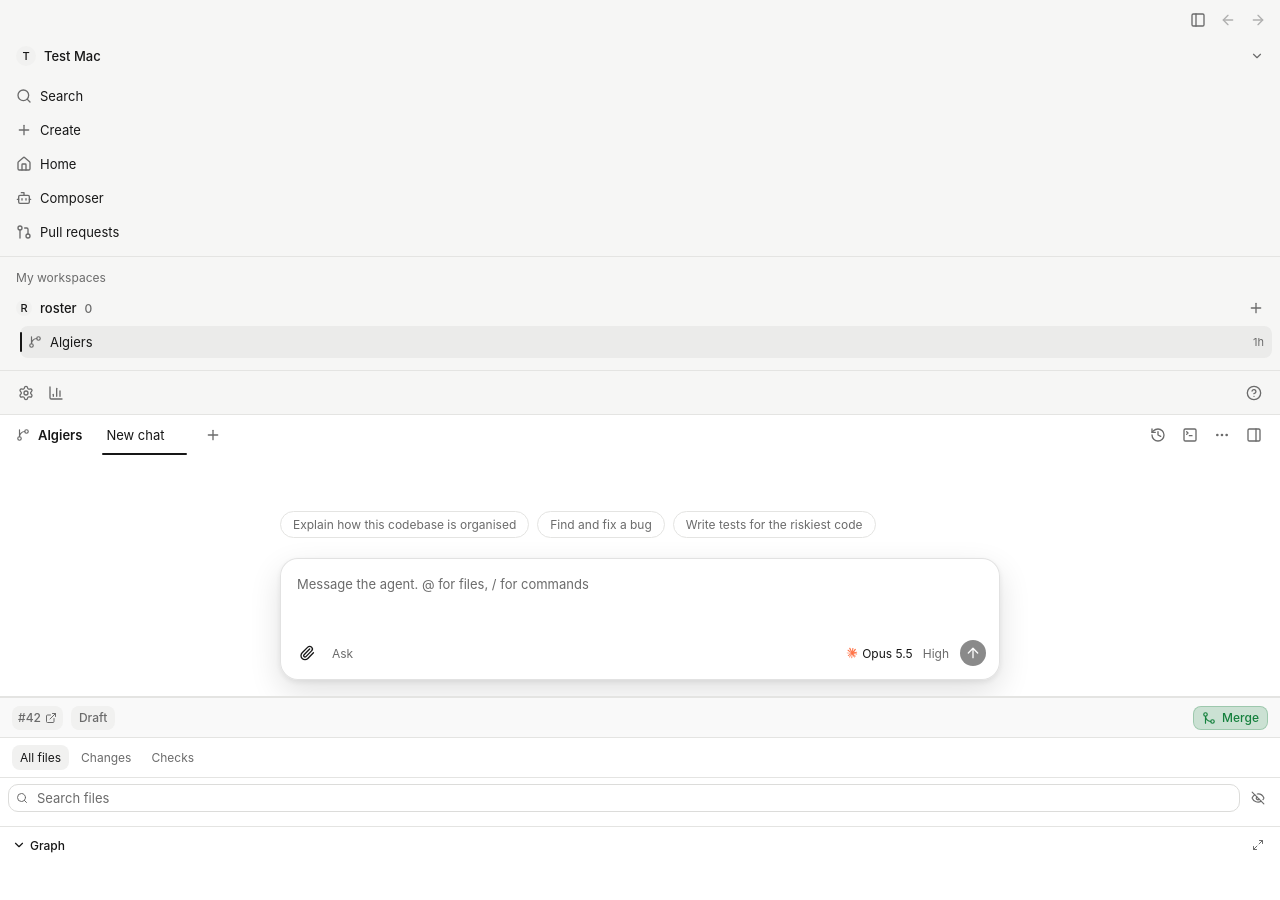
Test case: next action in the top bar › does not let a draft be merged at all
Click the button "Merge" at coordinates (1231, 718), box [1193,706,1268,730]
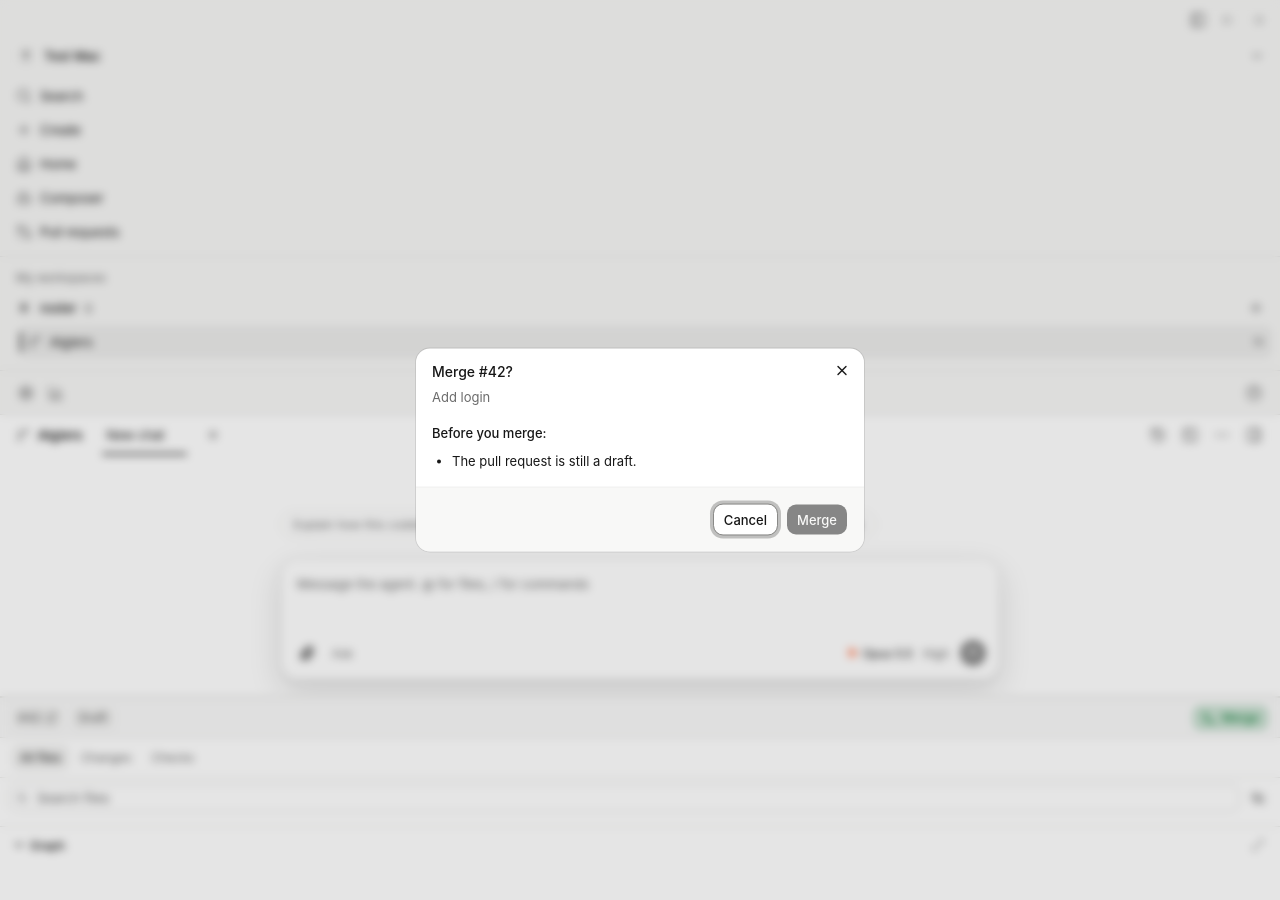
Result: the button "Merge" is disabled at [786,504,848,536]
